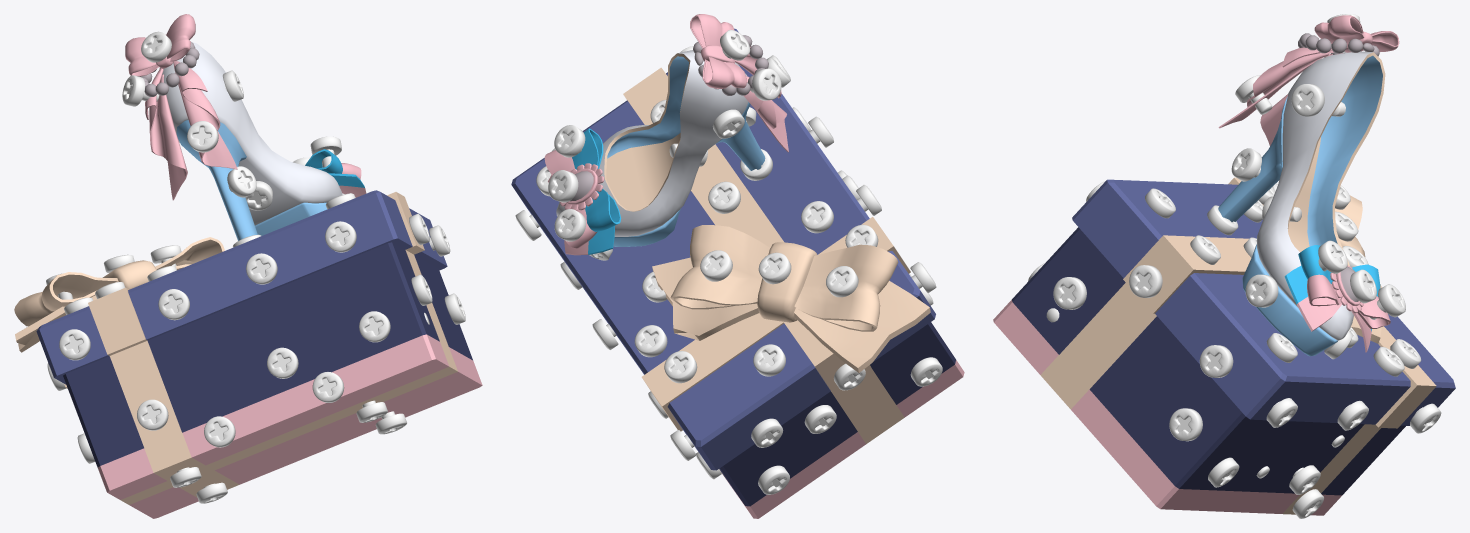
File: HighHeels.fbx
The picture shows the model from 3 angles, left to right: view 1: azimuth 30°, elevation 25°; view 2: azimuth 150°, elevation 25°; view 3: azimuth 270°, elevation 25°; orthographic projection. The views are drawn at different scales.
Visible parts, largest first — view 1: HighHeels_009, HighHeels_008, Screw (×15), HighHeels_005, HighHeels_001, HighHeels_013, HighHeels_002, HighHeels_022, HighHeels_011, HighHeels_014, HighHeels_007, HighHeels_016 (+3 smaller); view 2: HighHeels_002, Screw (×20), HighHeels_001, HighHeels_021, HighHeels_003, HighHeels_022, HighHeels_024, HighHeels_020, HighHeels_013, HighHeels_008, HighHeels_012, HighHeels_006 (+7 smaller); view 3: HighHeels_011, HighHeels_001, Screw (×22), HighHeels_010, HighHeels_008, HighHeels_021, HighHeels_007, HighHeels_022, HighHeels_013, HighHeels_004, HighHeels_020, HighHeels_016 (+7 smaller).
Part boxes in pixels (box(x1,y1,x2,y2)): HighHeels_009: box(64, 243, 424, 466); HighHeels_008: box(98, 334, 482, 518); Screw (×15): box(59, 31, 390, 447); HighHeels_005: box(43, 205, 395, 376); HighHeels_001: box(159, 42, 342, 225); HighHeels_013: box(125, 14, 237, 200); HighHeels_002: box(14, 237, 224, 352); HighHeels_022: box(128, 190, 399, 305); HighHeels_011: box(390, 242, 472, 360); HighHeels_014: box(176, 120, 257, 240); HighHeels_007: box(383, 204, 447, 268); HighHeels_016: box(305, 149, 366, 197); HighHeels_002: box(652, 225, 930, 372); Screw (×20): box(548, 30, 942, 494); HighHeels_001: box(556, 50, 748, 236); HighHeels_021: box(511, 100, 714, 374); HighHeels_003: box(721, 323, 955, 506); HighHeels_022: box(666, 28, 869, 254); HighHeels_024: box(667, 323, 819, 453); HighHeels_020: box(623, 67, 842, 376); HighHeels_013: box(690, 14, 788, 152); HighHeels_008: box(720, 360, 964, 518); HighHeels_012: box(641, 313, 783, 415); HighHeels_006: box(703, 300, 935, 470); HighHeels_011: box(1012, 228, 1243, 487); HighHeels_001: box(1257, 51, 1385, 340); Screw (×22): box(1053, 75, 1441, 518); HighHeels_010: box(1177, 415, 1405, 495); HighHeels_008: box(993, 300, 1341, 515); HighHeels_021: box(1180, 273, 1410, 396); HighHeels_007: box(1072, 192, 1273, 417); HighHeels_022: box(1097, 179, 1262, 250); HighHeels_013: box(1218, 15, 1399, 145); HighHeels_004: box(1248, 391, 1445, 428); HighHeels_020: box(1148, 235, 1251, 286); HighHeels_016: box(1284, 245, 1341, 331).
Bounding box in the file's own units: 10.25 × 11.58 × 9.33.
3 materials, 2 textured.
